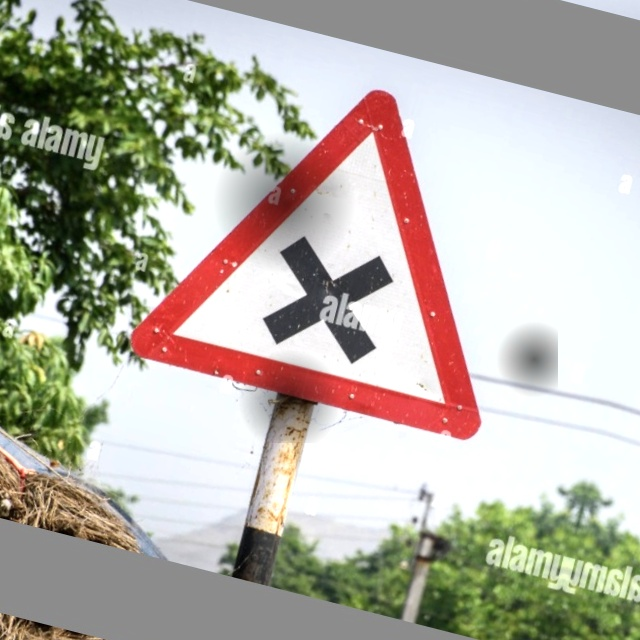Cross_Road: (126, 42, 558, 443)
